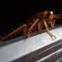cockroach: (19, 10, 56, 34)
